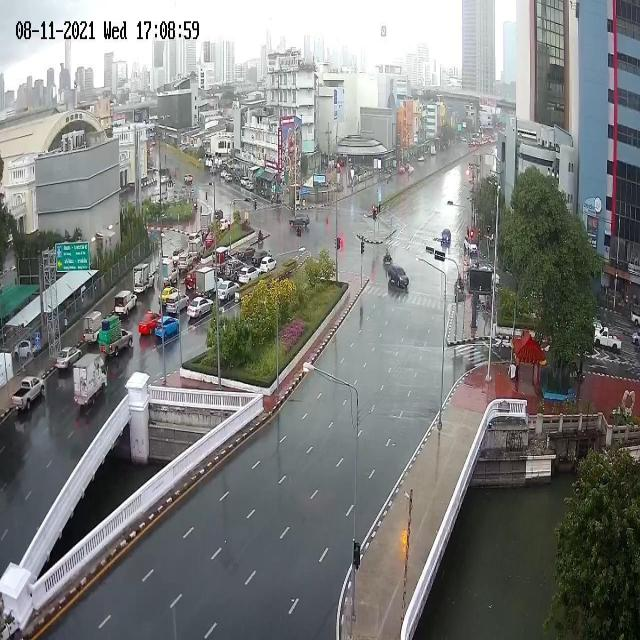Car: (155, 313, 180, 343), (55, 344, 81, 370), (185, 297, 214, 320), (387, 261, 409, 291), (138, 311, 162, 337), (238, 263, 262, 287), (13, 335, 36, 360), (167, 289, 189, 314), (217, 280, 239, 303), (158, 286, 181, 308), (225, 260, 247, 280), (176, 252, 195, 272), (289, 210, 309, 228), (462, 233, 478, 255), (237, 245, 256, 262), (259, 256, 276, 274), (441, 225, 452, 246), (185, 269, 196, 290), (631, 331, 640, 346), (240, 176, 250, 187), (184, 174, 193, 184), (160, 176, 169, 185), (220, 168, 228, 177), (225, 173, 232, 183)
Cycle: (454, 279, 464, 291), (383, 254, 393, 265)
Truck: (72, 352, 109, 408), (97, 315, 134, 357), (12, 376, 44, 411), (196, 265, 222, 297), (82, 309, 104, 346), (594, 326, 622, 354), (114, 286, 137, 320), (133, 262, 155, 296), (212, 245, 235, 275), (162, 256, 178, 286), (187, 238, 206, 260), (200, 212, 212, 238), (630, 301, 640, 327)
